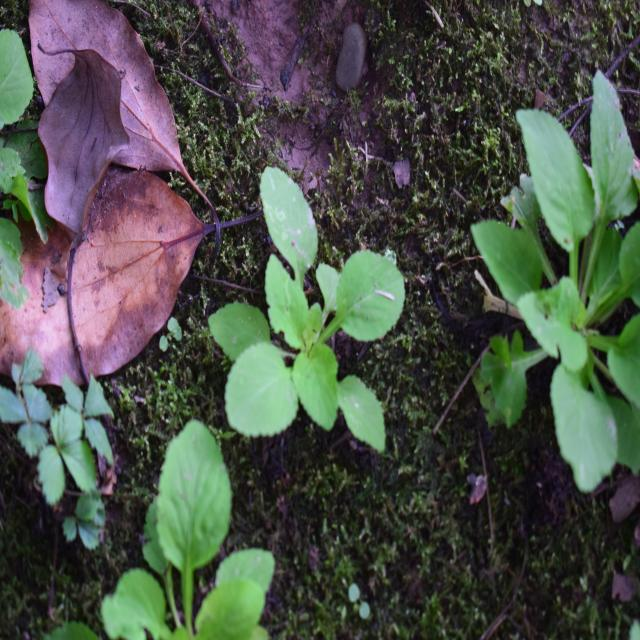Viola: (212, 190, 429, 512)
